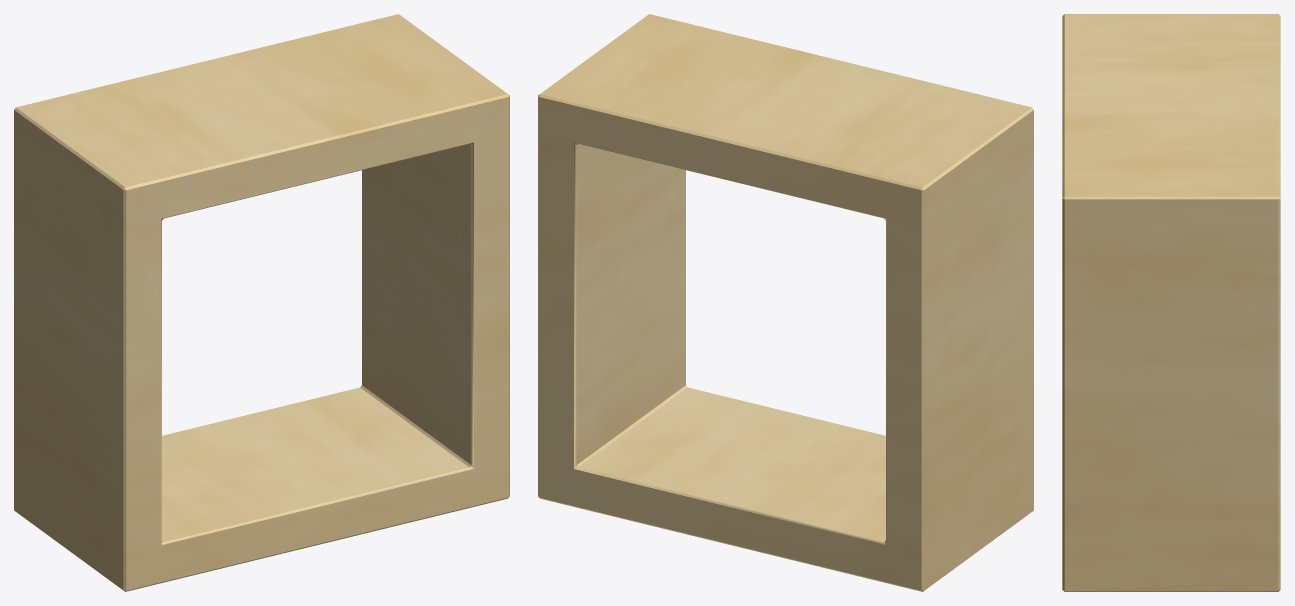
The model's file is block3 1.fbx.
3 renders of one model, left to right at view 1: azimuth 30°, elevation 25°; view 2: azimuth 150°, elevation 25°; view 3: azimuth 270°, elevation 25°, orthographic. The views are drawn at different scales.
Parts seen in each view (by area): view 1: block3; view 2: block3; view 3: block3.
Boxes of the visible parts, x1,y1,x2,y2 form: block3: (14,14,509,591); block3: (538,14,1033,591); block3: (1062,14,1280,591).
Size of the model in its own units: 2.46 by 2.46 by 1.23.
